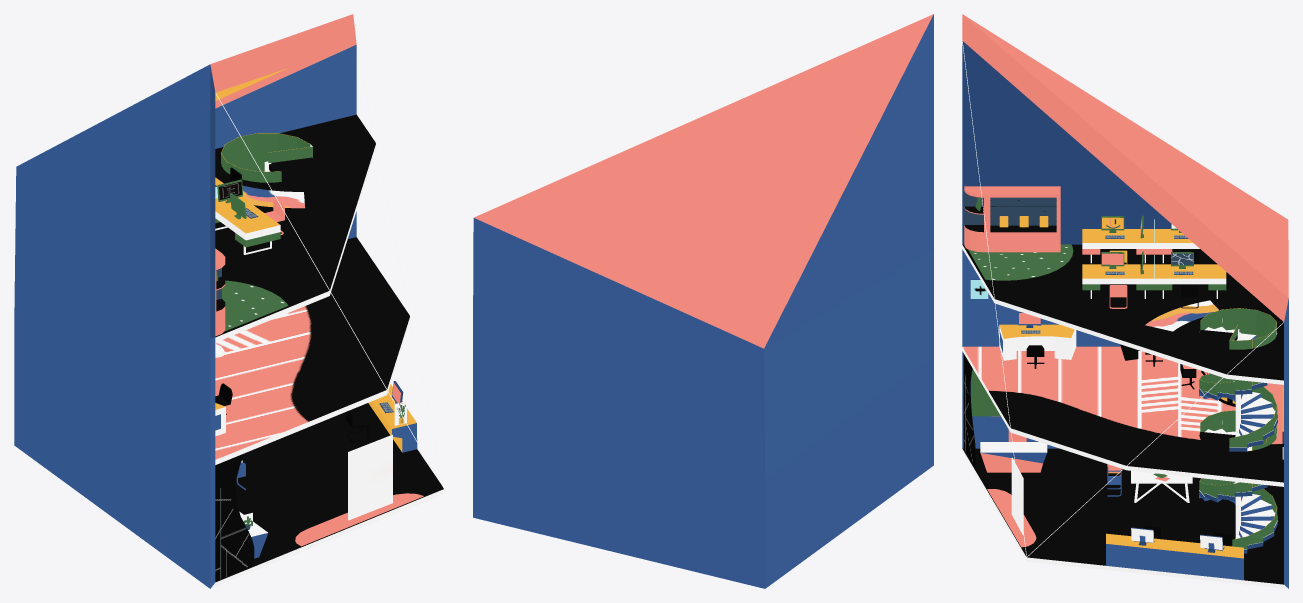
The model's file is 广告线.fbx.
3 renders of one model, left to right at view 1: azimuth 30°, elevation 25°; view 2: azimuth 150°, elevation 25°; view 3: azimuth 270°, elevation 25°, orthographic. The views are drawn at different scales.
Visible parts, largest first — view 1: building, floor, wall, Null_Instance_1, Cube_3_3, Disc, table_20_2, Extrude_2_2, Extrude_3, Disc_1, Cube_1; view 2: building; view 3: building, floor, Cube_1, Null_Instance_1, Null_1, Extrude_3, Disc, Cube_2, Cube_3_4, table_20_2, table_20_3, table_20 (+8 smaller).
Part boxes in pixels (x1,y1,x2,y2): building: [14, 14, 444, 588]; floor: [215, 114, 410, 464]; wall: [215, 453, 254, 581]; Null_Instance_1: [221, 133, 314, 182]; Cube_3_3: [348, 434, 392, 520]; Disc: [222, 280, 288, 331]; table_20_2: [215, 196, 280, 254]; Extrude_2_2: [295, 493, 423, 546]; Extrude_3: [368, 384, 417, 452]; Disc_1: [242, 185, 305, 208]; Cube_1: [215, 248, 225, 336]; building: [473, 14, 933, 588]; building: [962, 14, 1288, 588]; floor: [962, 244, 1283, 486]; Cube_1: [964, 186, 1060, 252]; Null_Instance_1: [1199, 308, 1277, 451]; Null_1: [1199, 410, 1277, 553]; Extrude_3: [1106, 533, 1243, 580]; Disc: [968, 244, 1073, 280]; Cube_2: [999, 324, 1076, 360]; Cube_3_4: [980, 442, 1047, 472]; table_20_2: [1082, 264, 1154, 298]; table_20_3: [1154, 264, 1226, 298]; table_20: [1082, 229, 1154, 263].
Bounding box in the file's own units: 1016 × 1499 × 1016.
